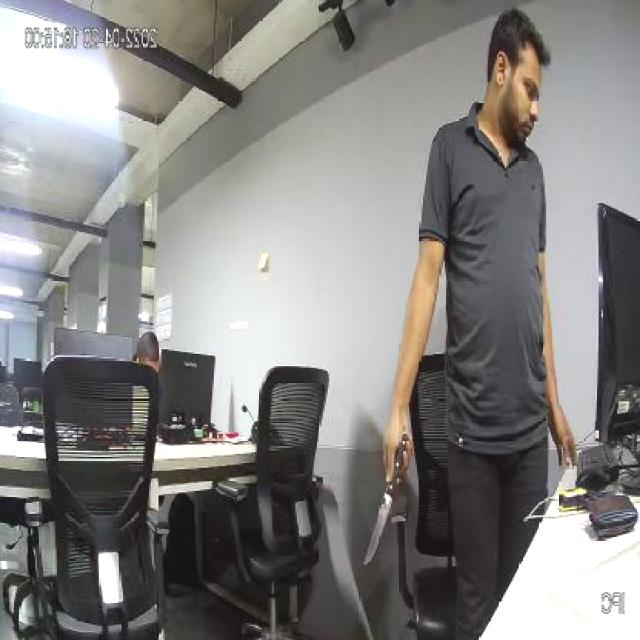knife: (360, 452, 402, 574)
